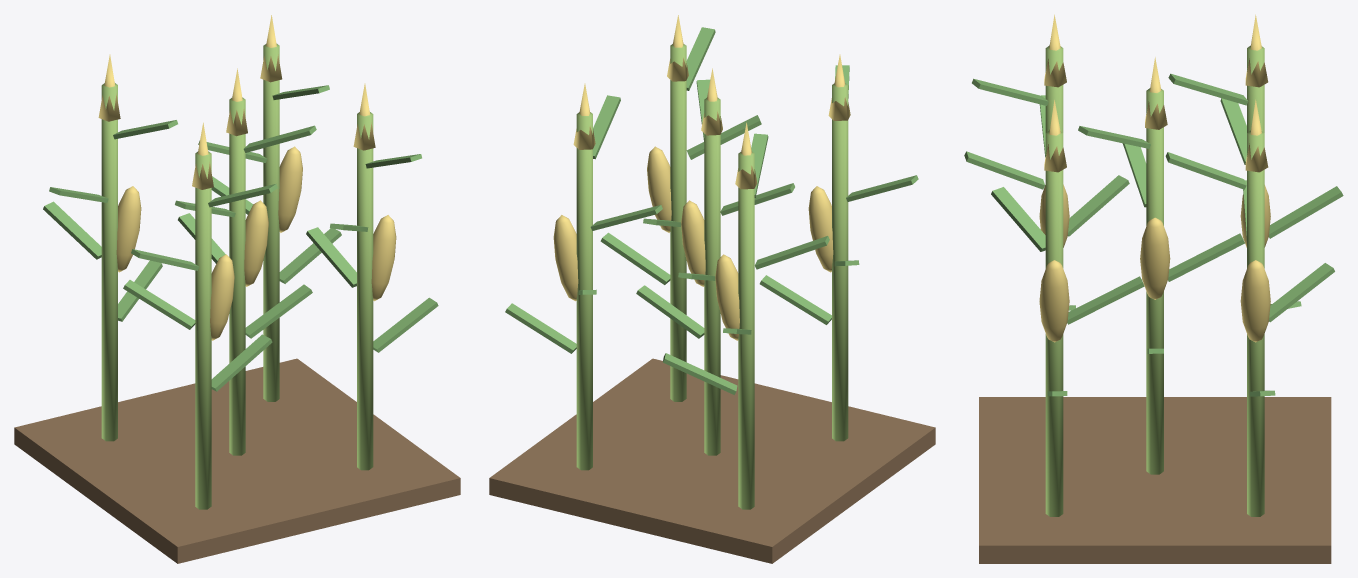
File: world_crop_corn.glb
3 views of the same model, side by side, from view 1: azimuth 30°, elevation 25°; view 2: azimuth 150°, elevation 25°; view 3: azimuth 270°, elevation 25° (orthographic). The views are drawn at different scales.
Visible parts, largest first — view 1: world_crop_corn; view 2: world_crop_corn; view 3: world_crop_corn.
Part boxes in pixels (bbox=[...]): world_crop_corn: bbox=[14, 15, 460, 563]; world_crop_corn: bbox=[489, 15, 935, 563]; world_crop_corn: bbox=[964, 14, 1343, 563].
Bounding box in the file's own units: 1.52 × 1.9 × 1.51.
